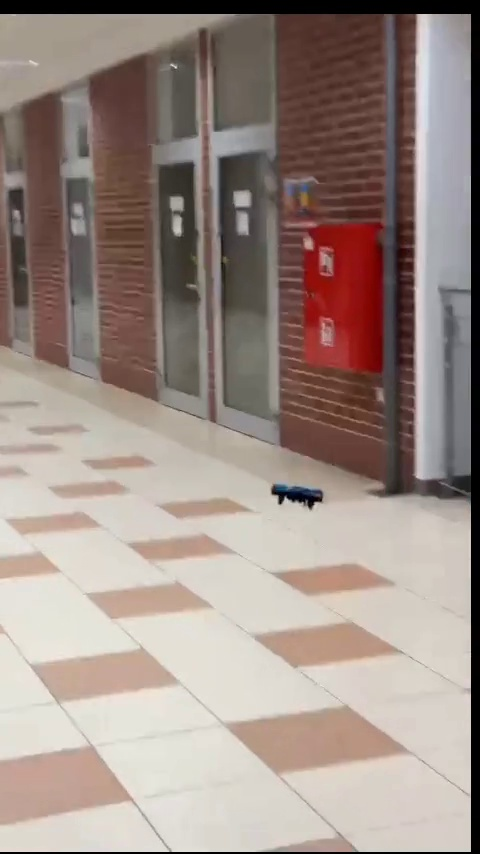drone: (271, 481, 324, 506)
